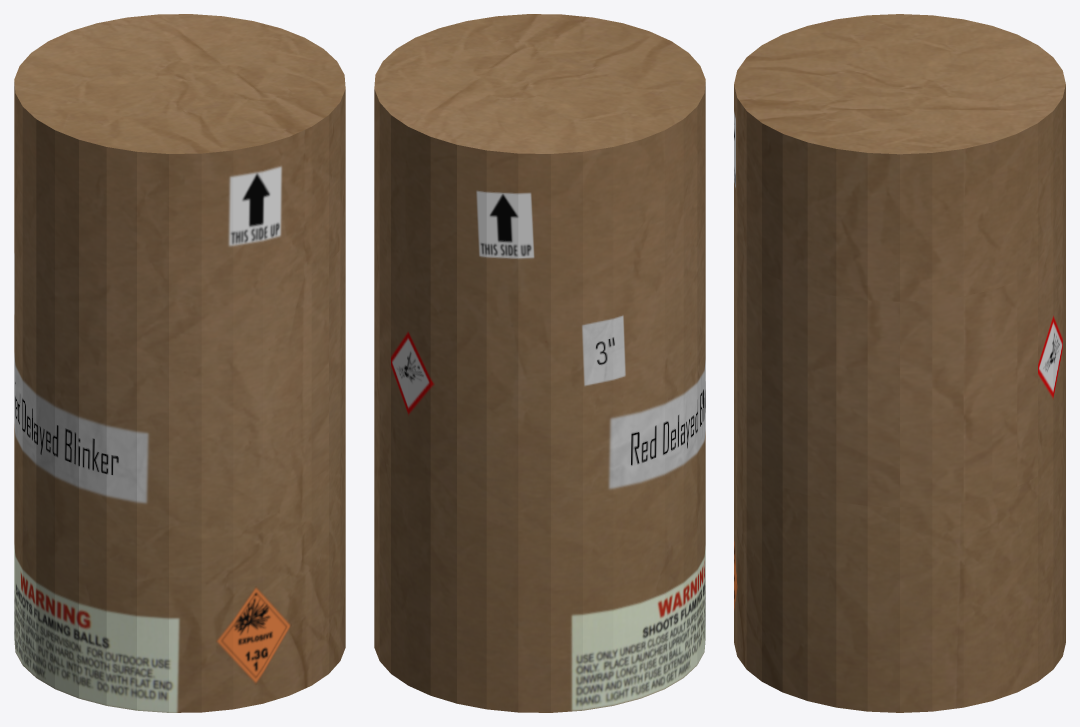
The model's file is Shell Canister 3 Inch RedDelayedBlinker.fbx.
3 renders of one model, left to right at view 1: azimuth 30°, elevation 25°; view 2: azimuth 150°, elevation 25°; view 3: azimuth 270°, elevation 25°, orthographic.
Parts seen in each view (by area): view 1: Cylinder; view 2: Cylinder; view 3: Cylinder.
Part boxes in pixels (x1=…): Cylinder: x1=14, y1=14, x2=345, y2=712; Cylinder: x1=374, y1=14, x2=705, y2=712; Cylinder: x1=734, y1=14, x2=1065, y2=712.
Bounding box in the file's own units: 14 × 26 × 14.
